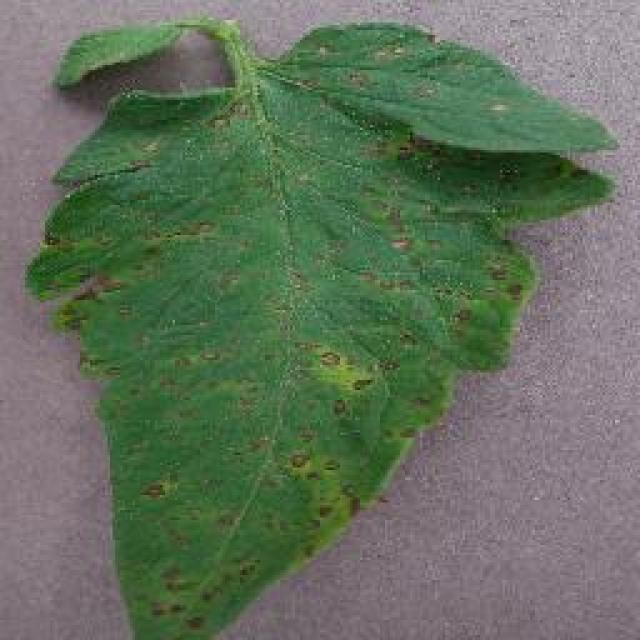Tomato___Septoria_leaf_spot: (28, 18, 608, 638)
